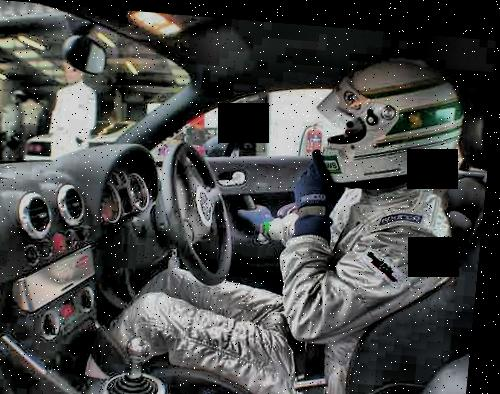seatbelt: (278, 262, 350, 394)
